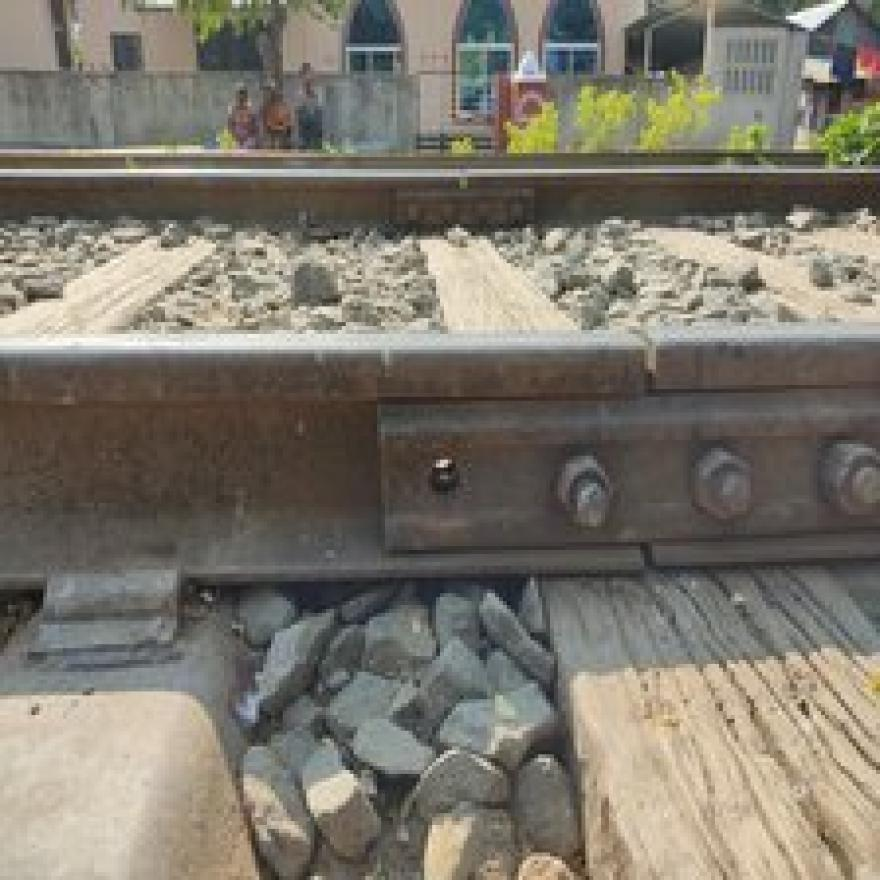railway-gap: (592, 309, 704, 417), (615, 533, 675, 595), (450, 165, 478, 197)
